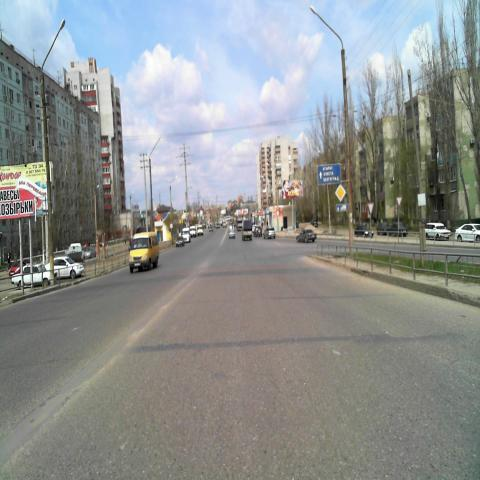2_1: (335, 184, 346, 202)
2_4: (367, 200, 375, 216), (396, 196, 403, 206)
6_15_1: (335, 203, 348, 211)
